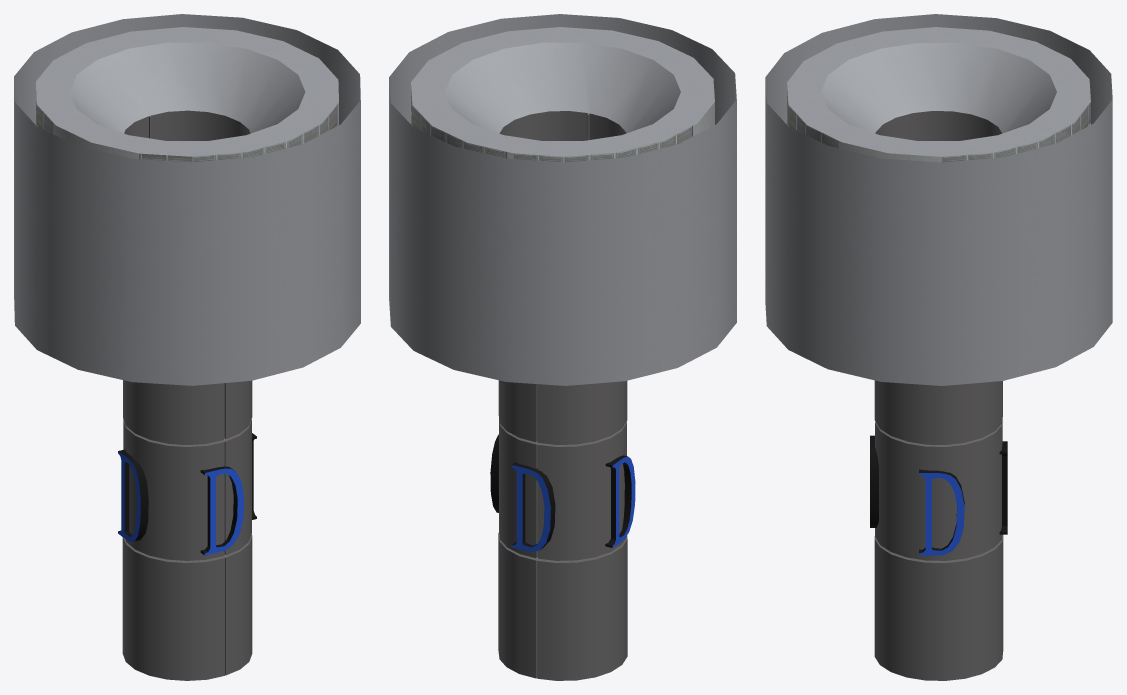
Rendered from Circular structure D.fbx.
3 views of the same model, side by side, from view 1: azimuth 30°, elevation 25°; view 2: azimuth 150°, elevation 25°; view 3: azimuth 270°, elevation 25° (orthographic).
Parts seen in each view (by area): view 1: Circular Shape; view 2: Circular Shape; view 3: Circular Shape.
Boxes of the visible parts, bbox=[...] form: Circular Shape: bbox=[14, 14, 360, 680]; Circular Shape: bbox=[389, 14, 736, 680]; Circular Shape: bbox=[765, 14, 1112, 680].
Size of the model in its own units: 6.08 by 10.79 by 6.01.
